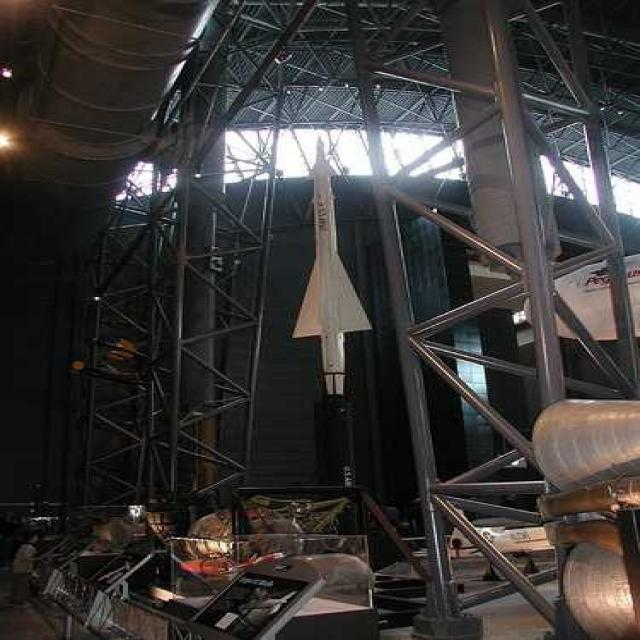missile: (297, 131, 368, 396)
